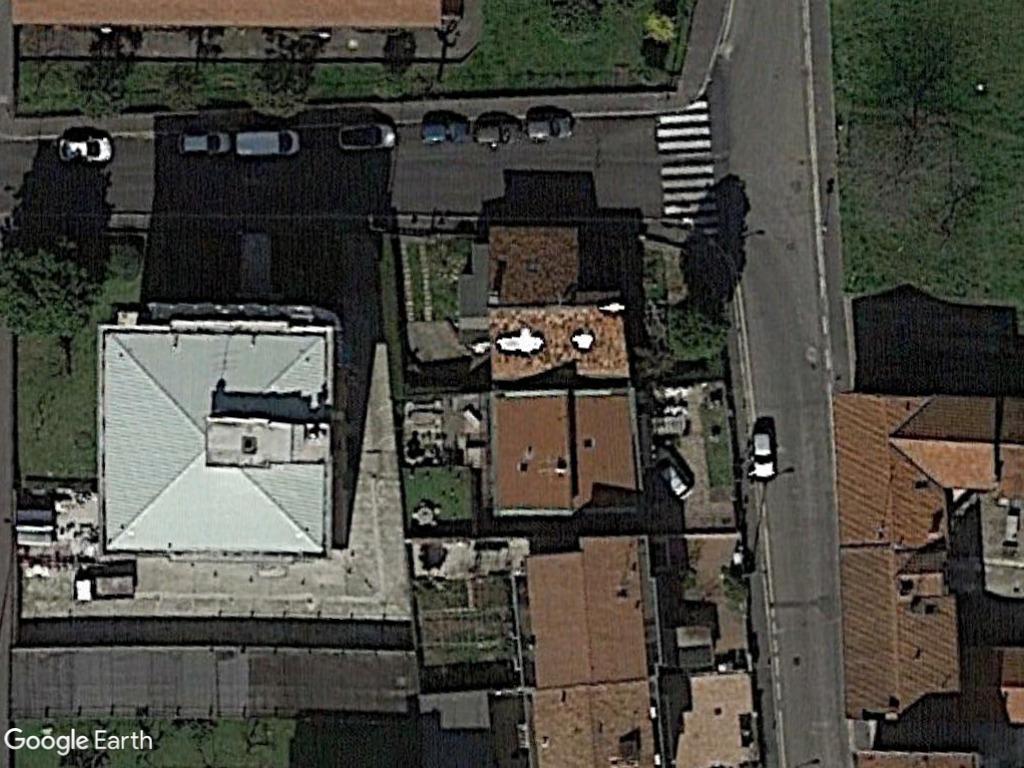car: (333, 122, 401, 153), (746, 427, 781, 482), (55, 134, 117, 164), (522, 113, 579, 144), (175, 131, 237, 158), (418, 120, 470, 147)
van: (232, 127, 307, 160)
